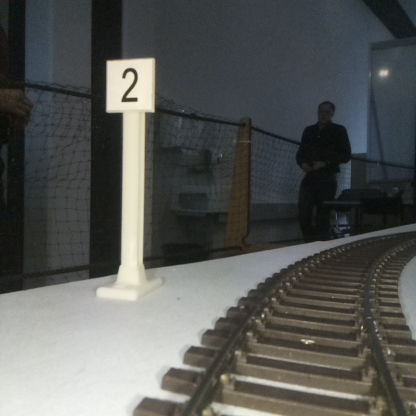white-info-2: (106, 58, 154, 295)
